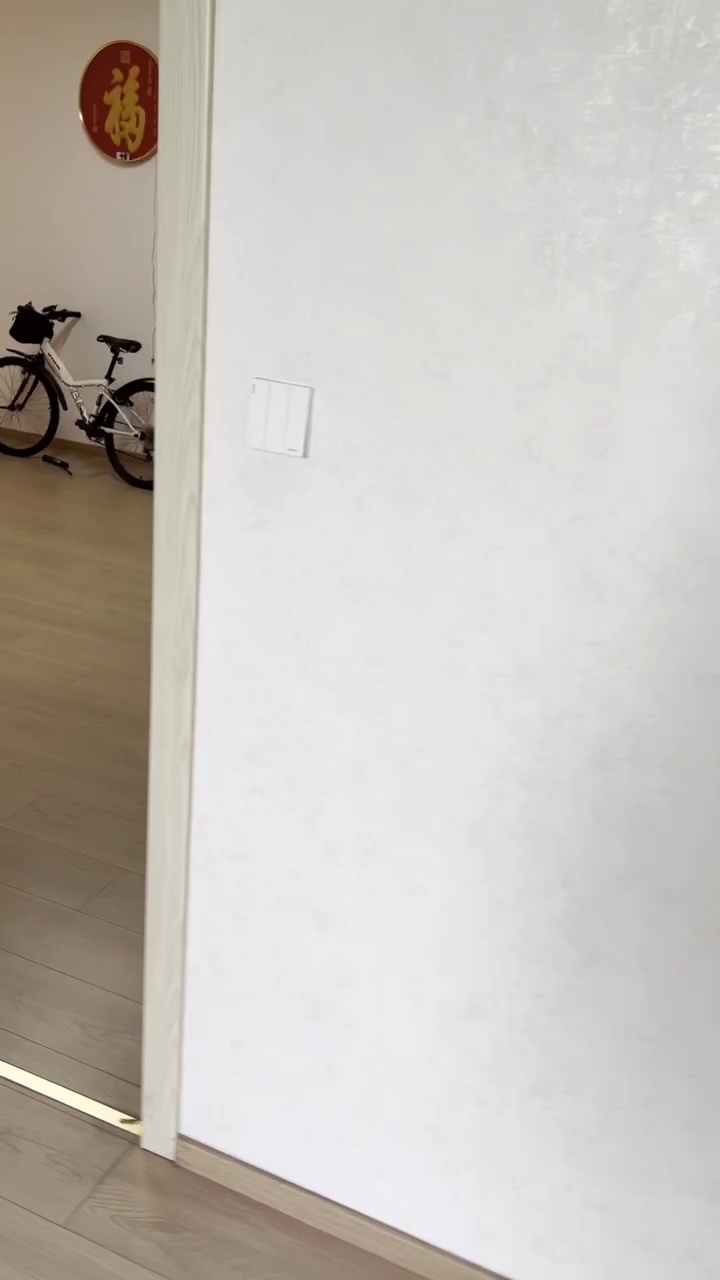button: (243, 376, 315, 462)
